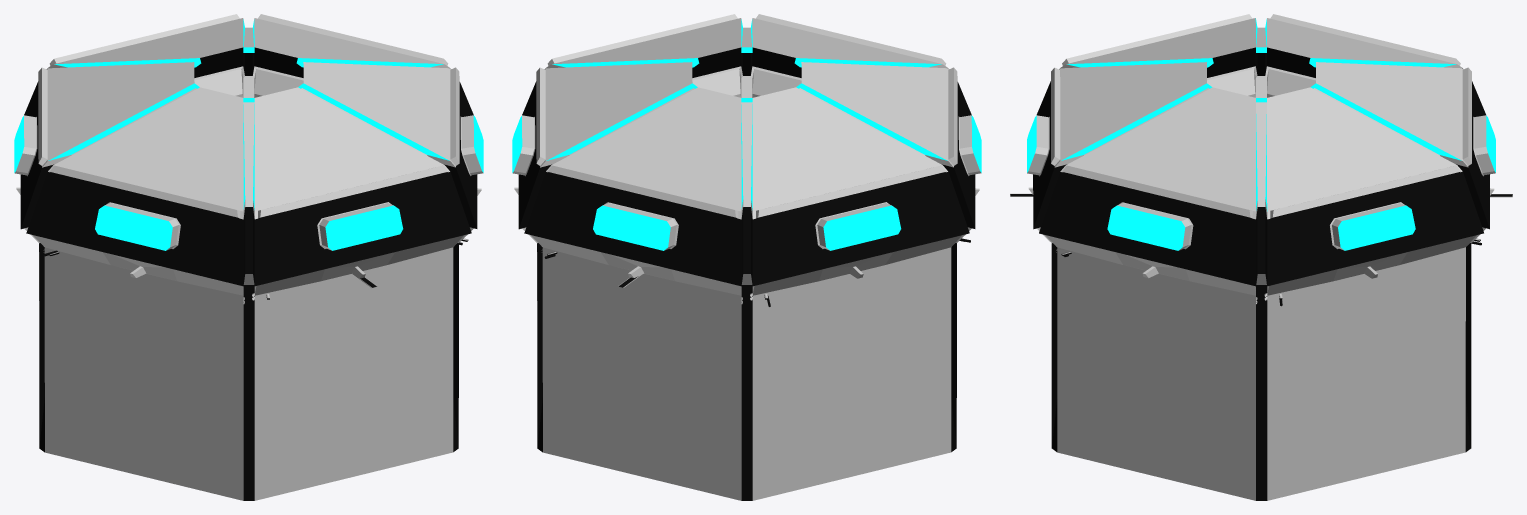
File: holoDeck.fbx
3 renders of one model, left to right at view 1: azimuth 30°, elevation 25°; view 2: azimuth 150°, elevation 25°; view 3: azimuth 270°, elevation 25°, orthographic.
Parts seen in each view (by area): view 1: Circle.005; view 2: Circle.005; view 3: Circle.005.
Part boxes in pixels (x1=…): Circle.005: x1=14, y1=14, x2=483, y2=500; Circle.005: x1=512, y1=14, x2=981, y2=500; Circle.005: x1=1027, y1=14, x2=1495, y2=500.
Bounding box in the file's own units: 1694 × 1244 × 1635.
